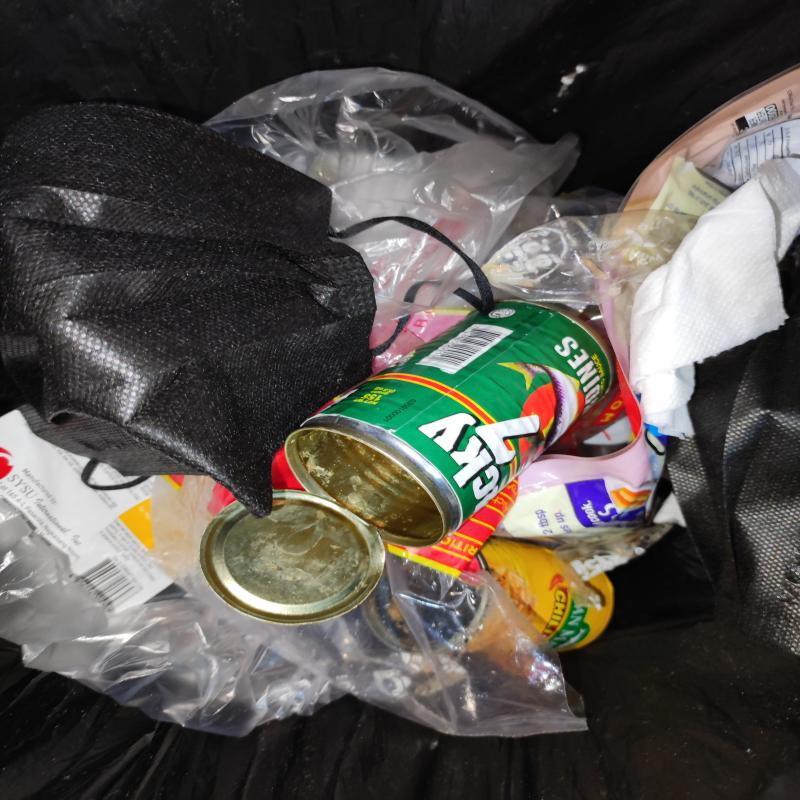aluminum: (200, 302, 615, 625), (480, 538, 615, 653)
facemask: (0, 103, 378, 519)
paper: (629, 156, 800, 439)
